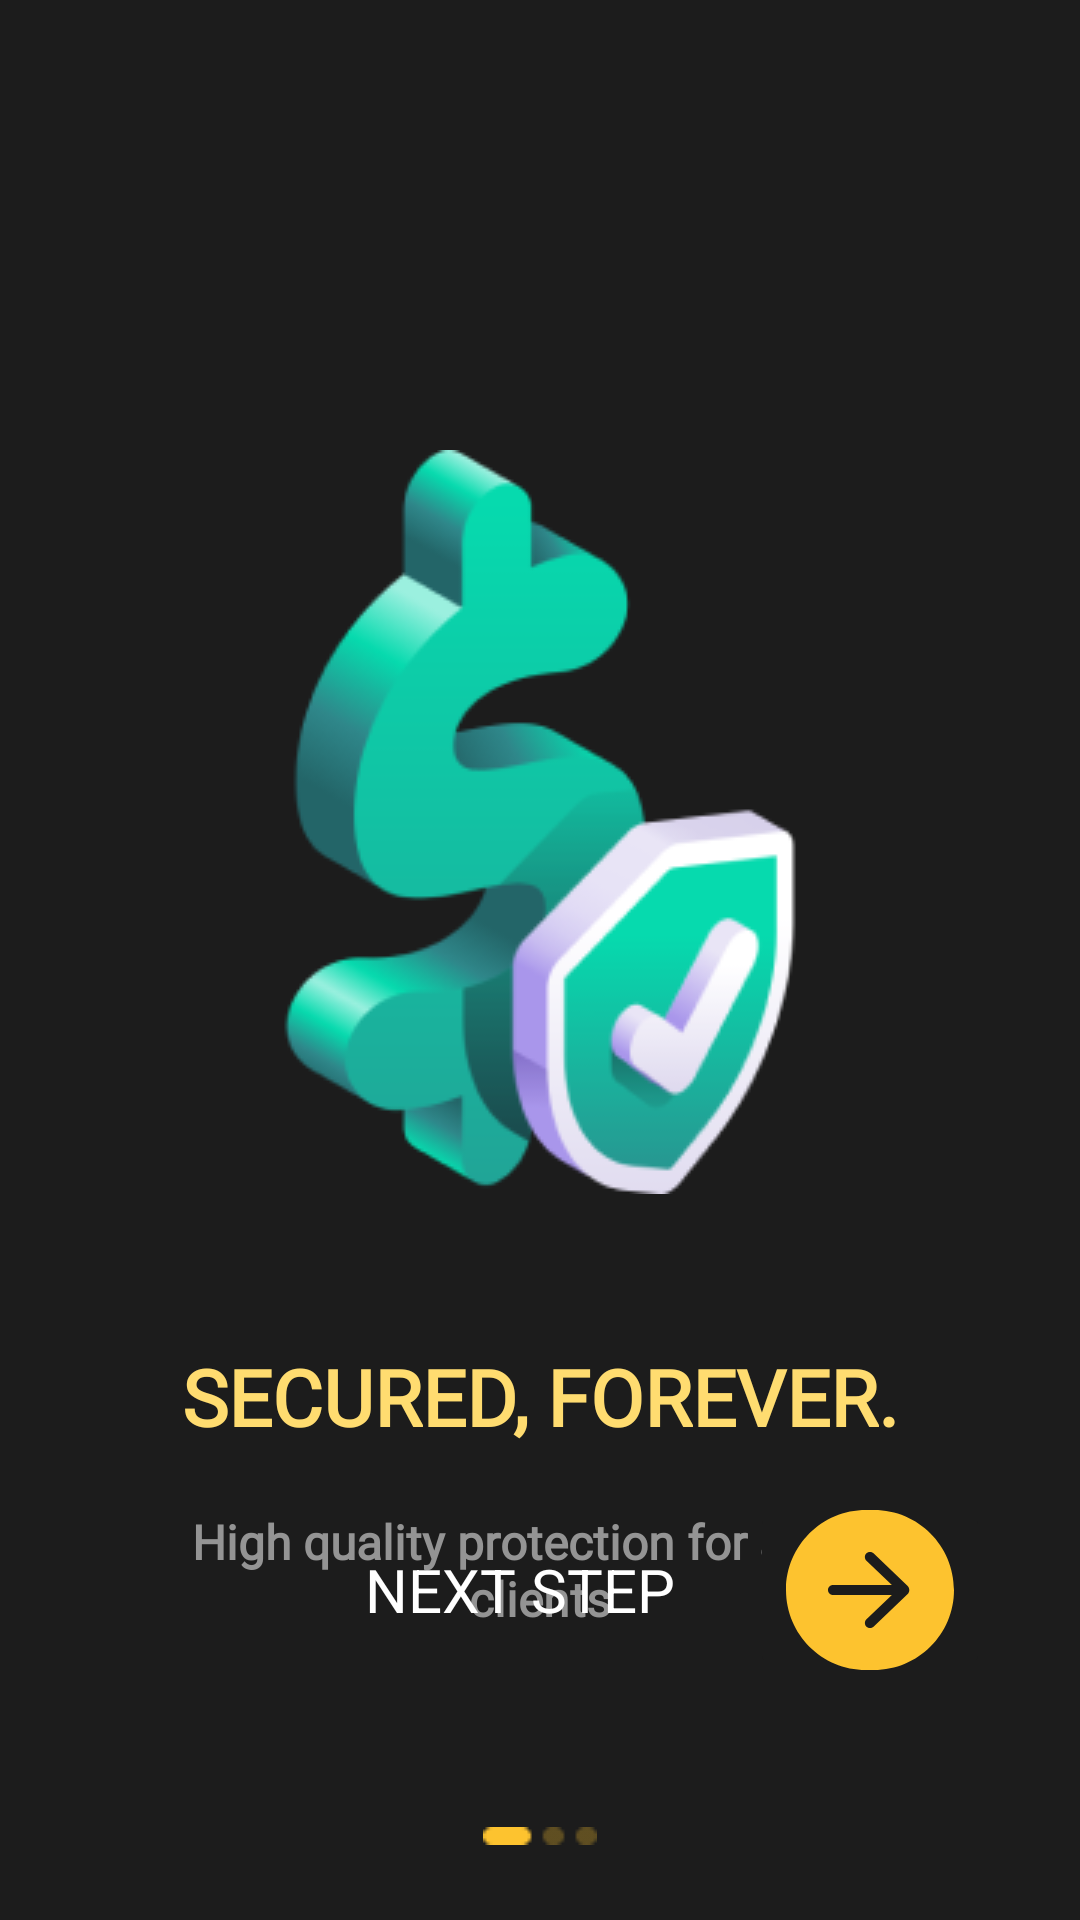

Icons on this 1080x1920 Android screen, each with the point to tap as point (x, y):
clicknext: point (857, 1590)
